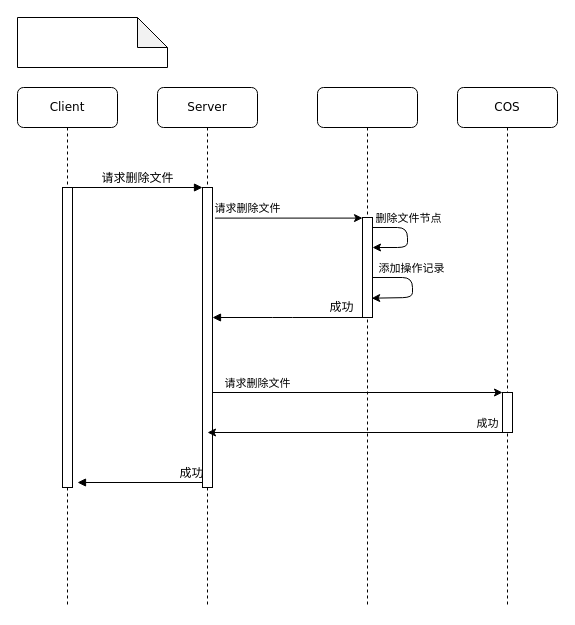
Some shapes in this 575 by 625 pixel diagram are drawn without their labels. Here are the shapes that lost their labels. From the top down, the centre of each, then its label:
At (x=92, y=42): "客户端删除文件".
At (x=367, y=347): "Server-DMS".
